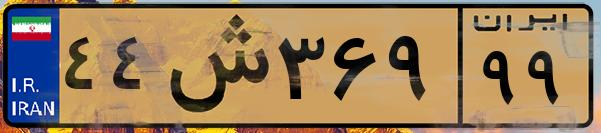3: (270, 28, 330, 110)
4: (57, 26, 110, 100), (110, 28, 158, 98)
6: (330, 28, 385, 110)
9: (385, 28, 445, 110), (475, 38, 525, 113), (525, 38, 570, 115)
ش: (158, 12, 270, 120)
